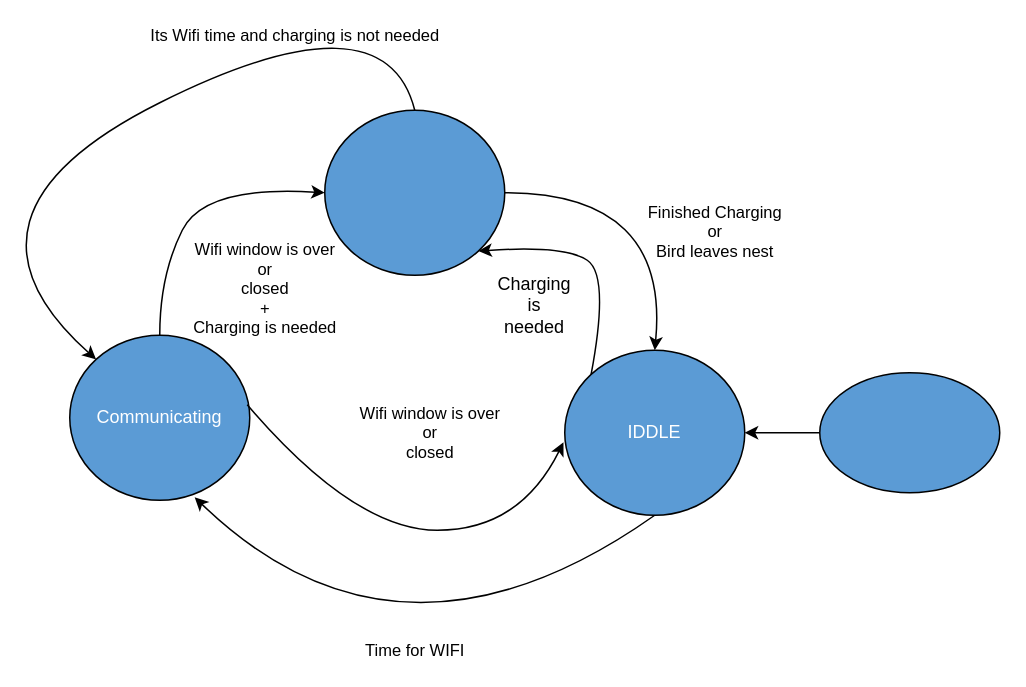
The diagram is 1026 pixels wide and 687 high, and some of its shapes have lost their labels. The shapes that lost their labels are listed below. From the top down, each one's centre as x and y in pixels, then its label:
At (x=414, y=192): "Charging".
At (x=909, y=432): "Initial".
